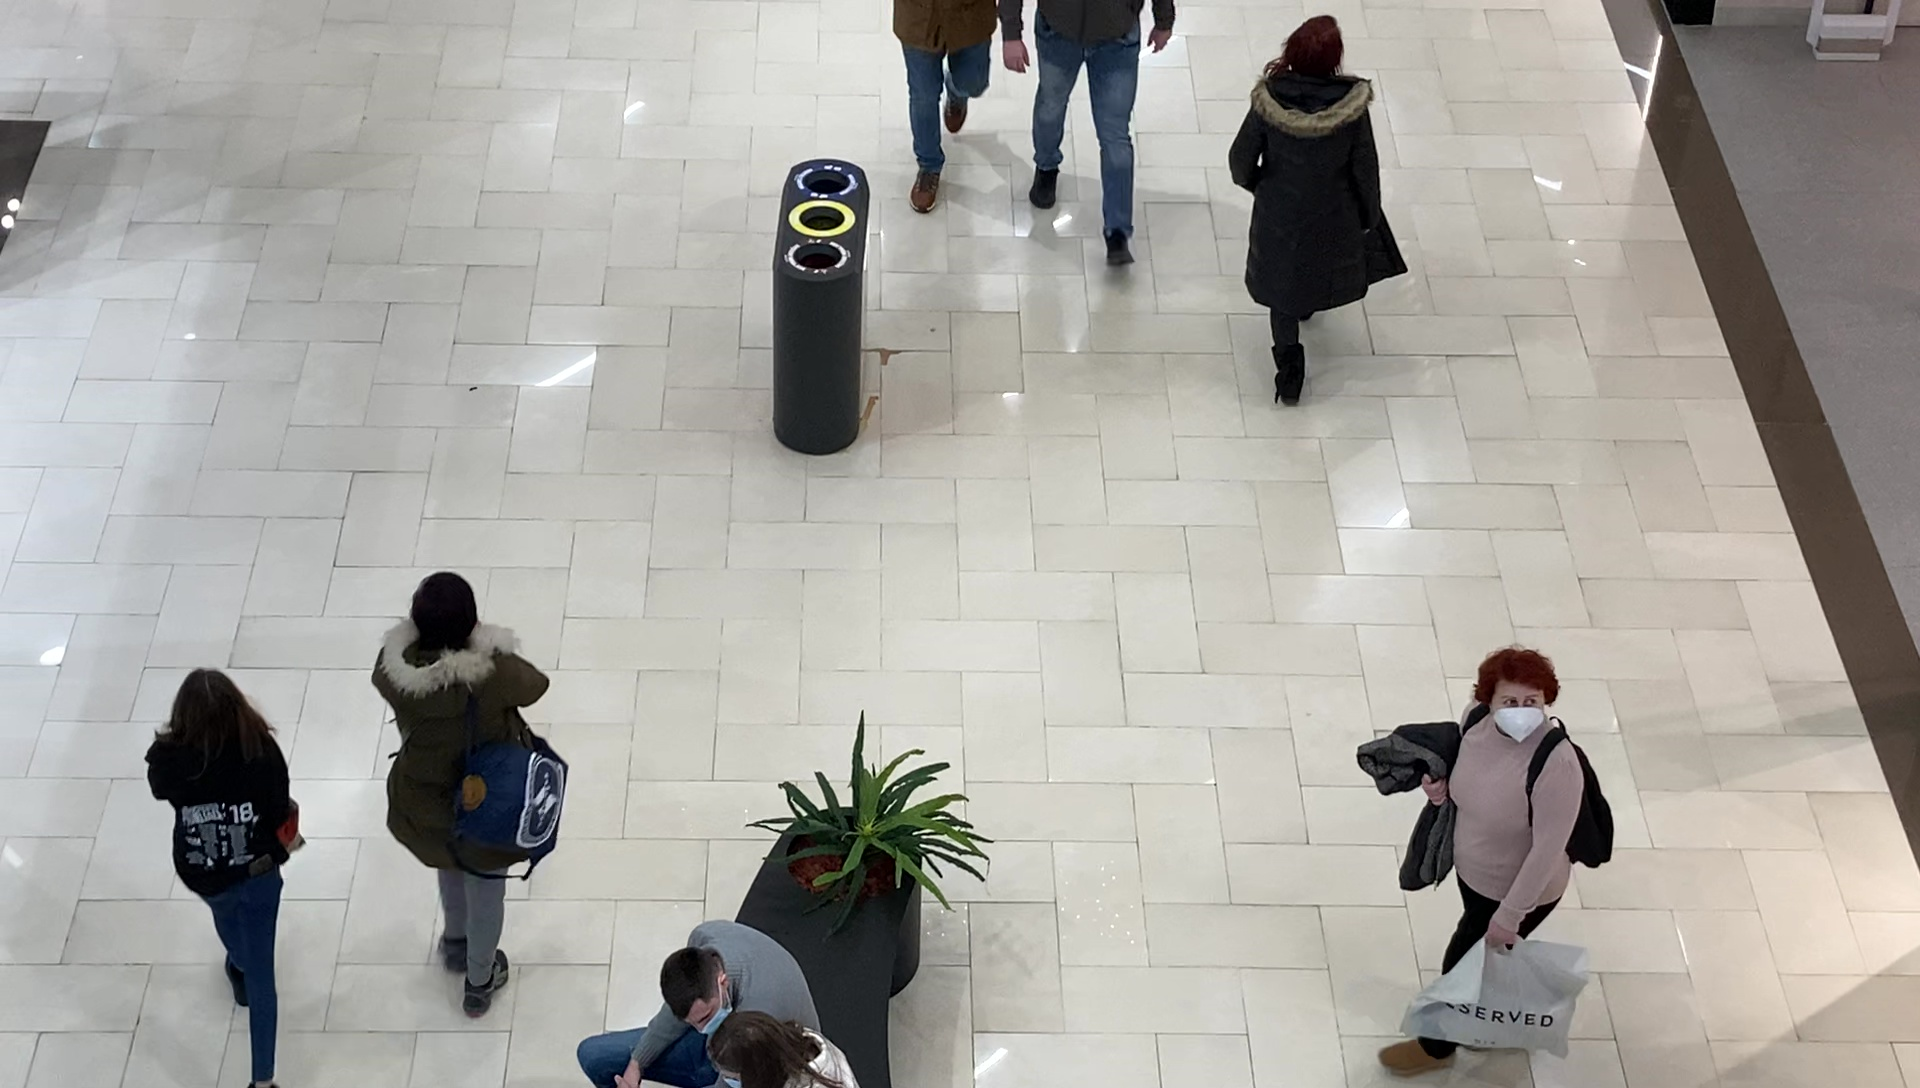person: (1377, 648, 1584, 1077), (374, 571, 552, 1020), (145, 669, 306, 1088), (1228, 15, 1379, 408), (997, 1, 1176, 268), (894, 1, 992, 216)
